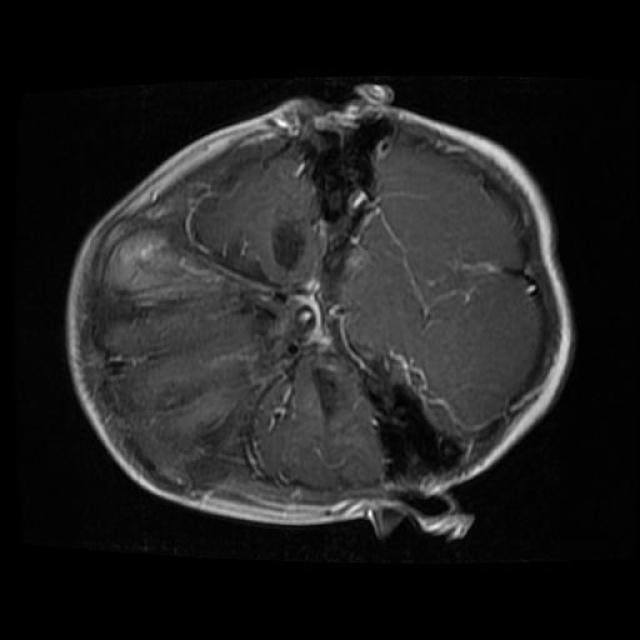Glioma: (81, 215, 269, 313)
